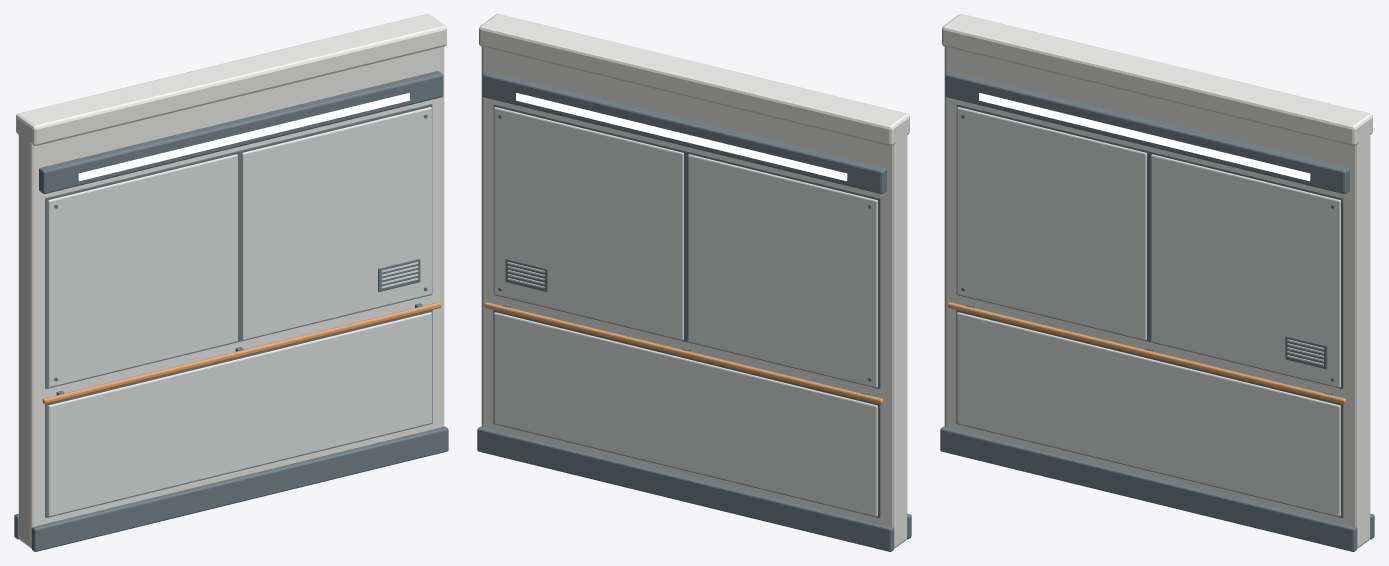
The model's file is mh_wall_bay.glb.
The picture shows the model from 3 angles, left to right: view 1: azimuth 30°, elevation 25°; view 2: azimuth 150°, elevation 25°; view 3: azimuth 330°, elevation 25°; orthographic projection.
Visible parts, largest first — view 1: mh_wall_bay; view 2: mh_wall_bay; view 3: mh_wall_bay.
Part boxes in pixels (x1,y1,x2,y2): mh_wall_bay: (14,14,448,551); mh_wall_bay: (477,14,911,551); mh_wall_bay: (940,14,1374,551).
Size of the model in its own units: 2.96 by 2.9 by 0.326.
